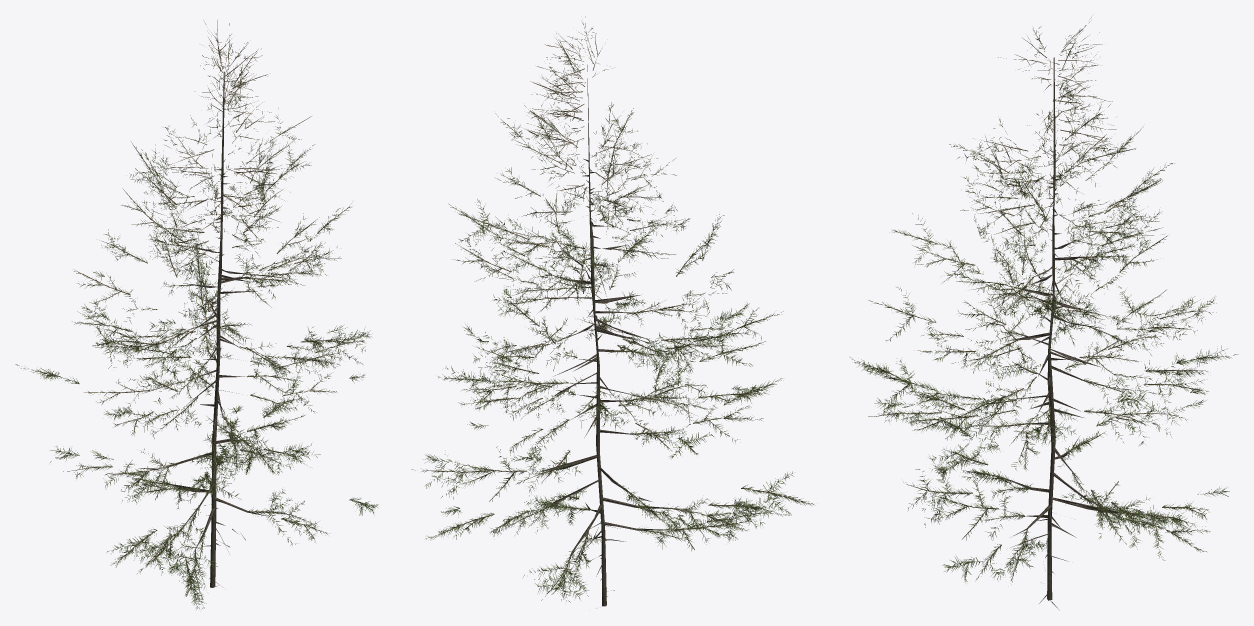
The model's file is fir.glb.
3 renders of one model, left to right at view 1: azimuth 30°, elevation 25°; view 2: azimuth 150°, elevation 25°; view 3: azimuth 270°, elevation 25°, orthographic. The views are drawn at different scales.
Visible parts, largest first — view 1: fir_sapling_medium_a_LOD0; view 2: fir_sapling_medium_a_LOD0; view 3: fir_sapling_medium_a_LOD0.
Boxes of the visible parts, left/top/right/bottom form: fir_sapling_medium_a_LOD0: left=15, top=20, right=378, bottom=609; fir_sapling_medium_a_LOD0: left=411, top=16, right=813, bottom=606; fir_sapling_medium_a_LOD0: left=850, top=17, right=1238, bottom=610.
Bounding box in the file's own units: 4.91 × 8.78 × 5.19.
3 materials, 3 textured.
